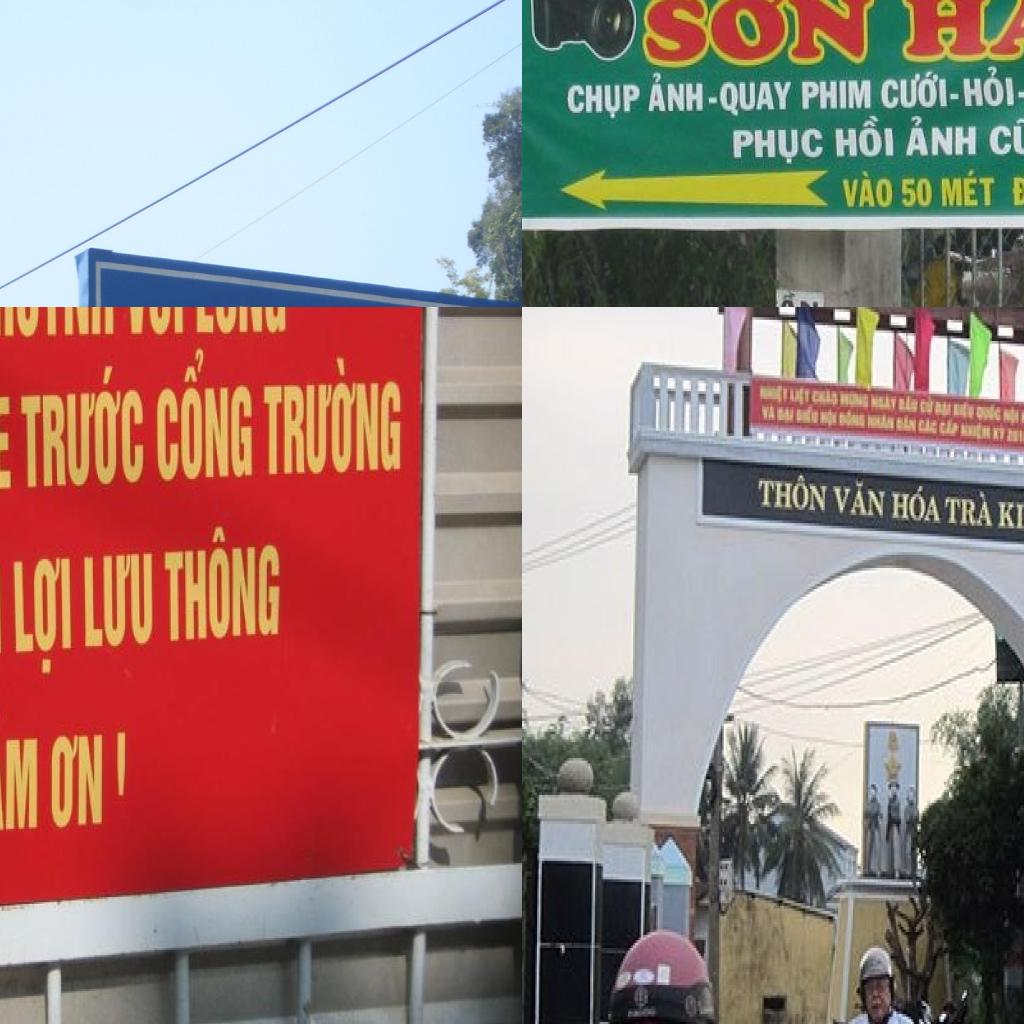text: (262, 353, 404, 479), (637, 0, 879, 71), (20, 361, 148, 493), (156, 344, 256, 488), (162, 524, 282, 644), (895, 0, 1024, 70), (12, 556, 75, 680), (82, 552, 156, 652), (0, 704, 41, 837), (900, 112, 982, 166), (730, 125, 830, 169), (0, 307, 117, 340), (566, 77, 644, 125), (754, 470, 830, 518), (879, 66, 952, 114), (719, 74, 795, 120), (832, 111, 897, 162), (938, 162, 998, 214), (800, 75, 876, 116), (830, 476, 889, 526), (838, 164, 896, 213), (194, 307, 288, 337), (644, 72, 708, 116), (959, 66, 1020, 112), (889, 481, 944, 528), (942, 486, 997, 531), (986, 111, 1024, 164), (125, 307, 185, 337), (898, 174, 937, 212), (0, 393, 13, 494), (771, 288, 824, 307), (1008, 170, 1024, 210)
